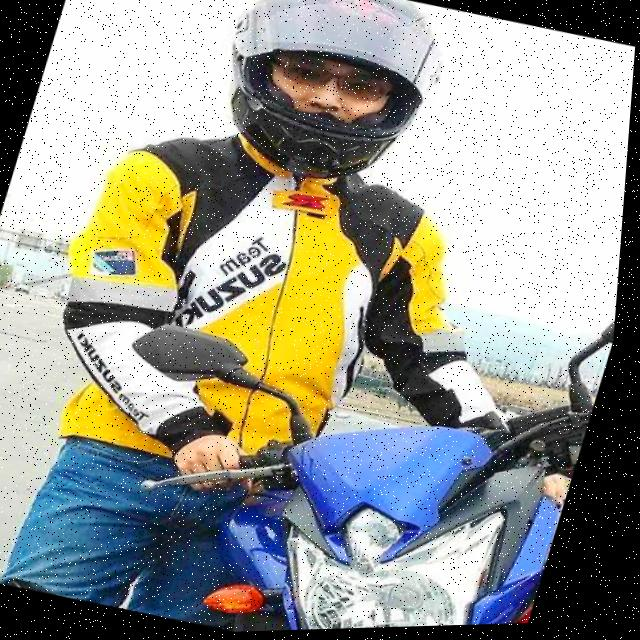helmet: (184, 0, 478, 215)
